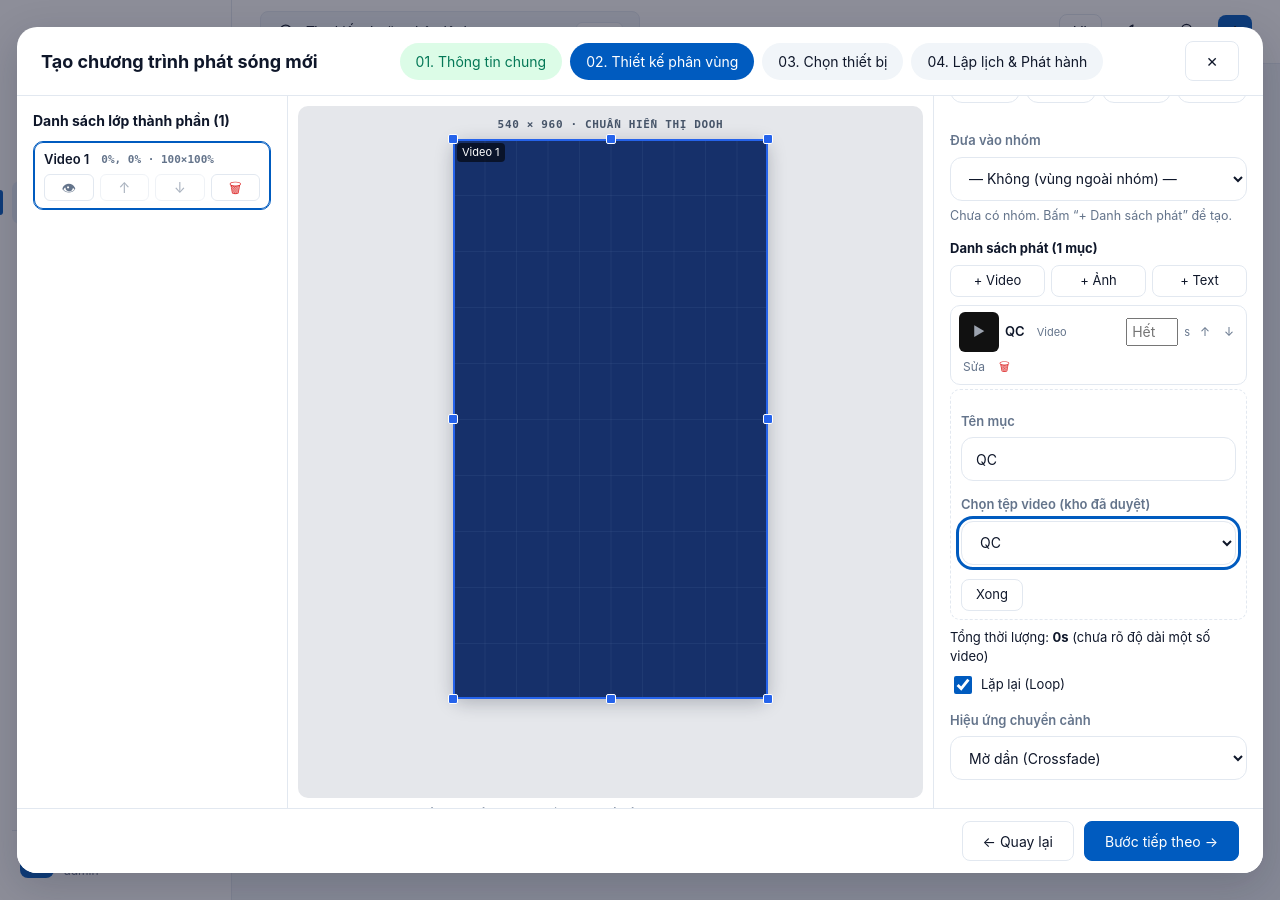
Test: BroadcastWizard › khong cho sang buoc sau khi thieu ten; phat hanh gui device_ids va hien tinh trang thiet bi
This screenshot has width=1280, height=900.
Earlier steps of the test are not shown.
(page scrolled)
Click the button "Bước tiếp theo →" at point(1162, 841), box [1084,821,1239,861]
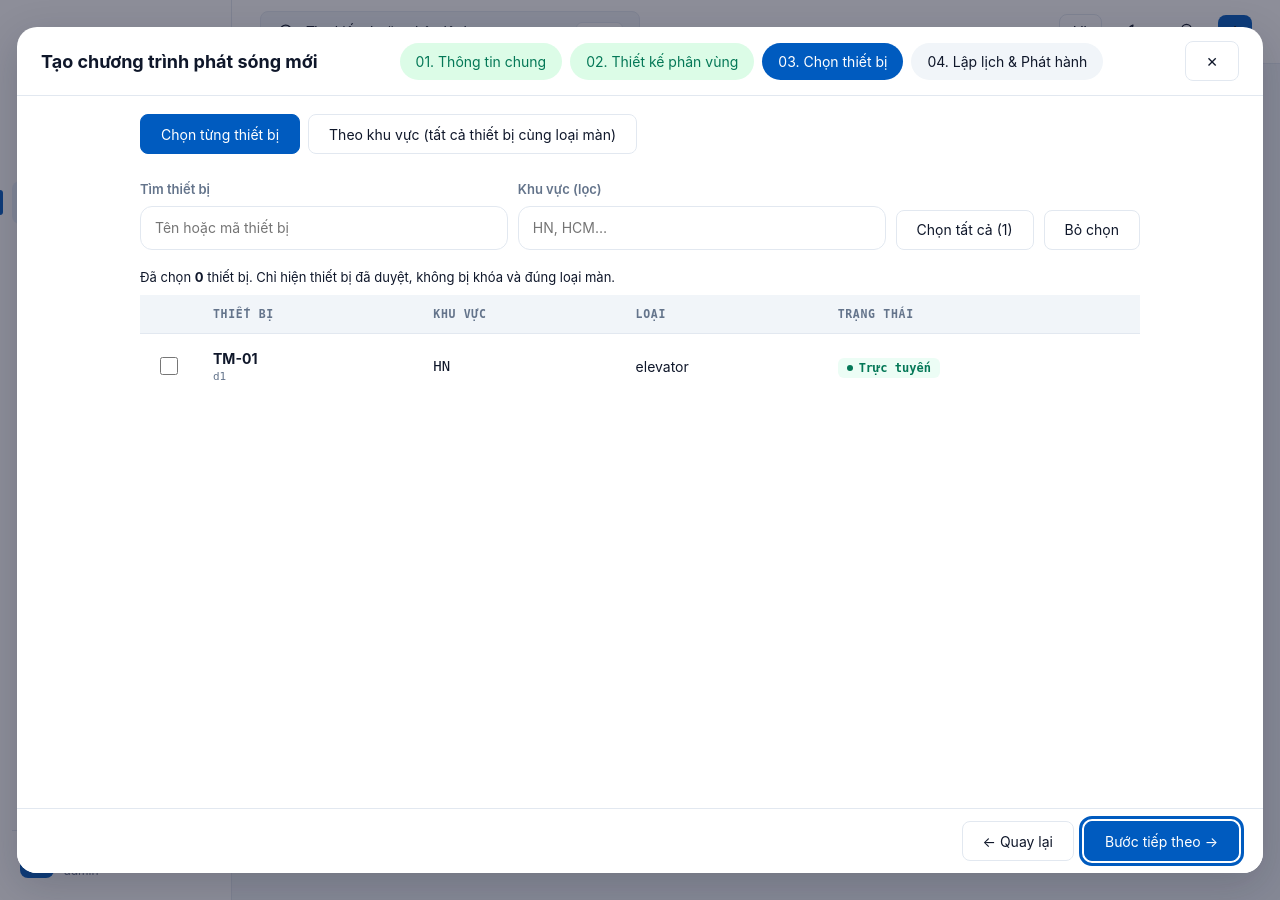
Click the checkbox named "Chọn TM-01" at point(169, 366), box [160,357,178,375]
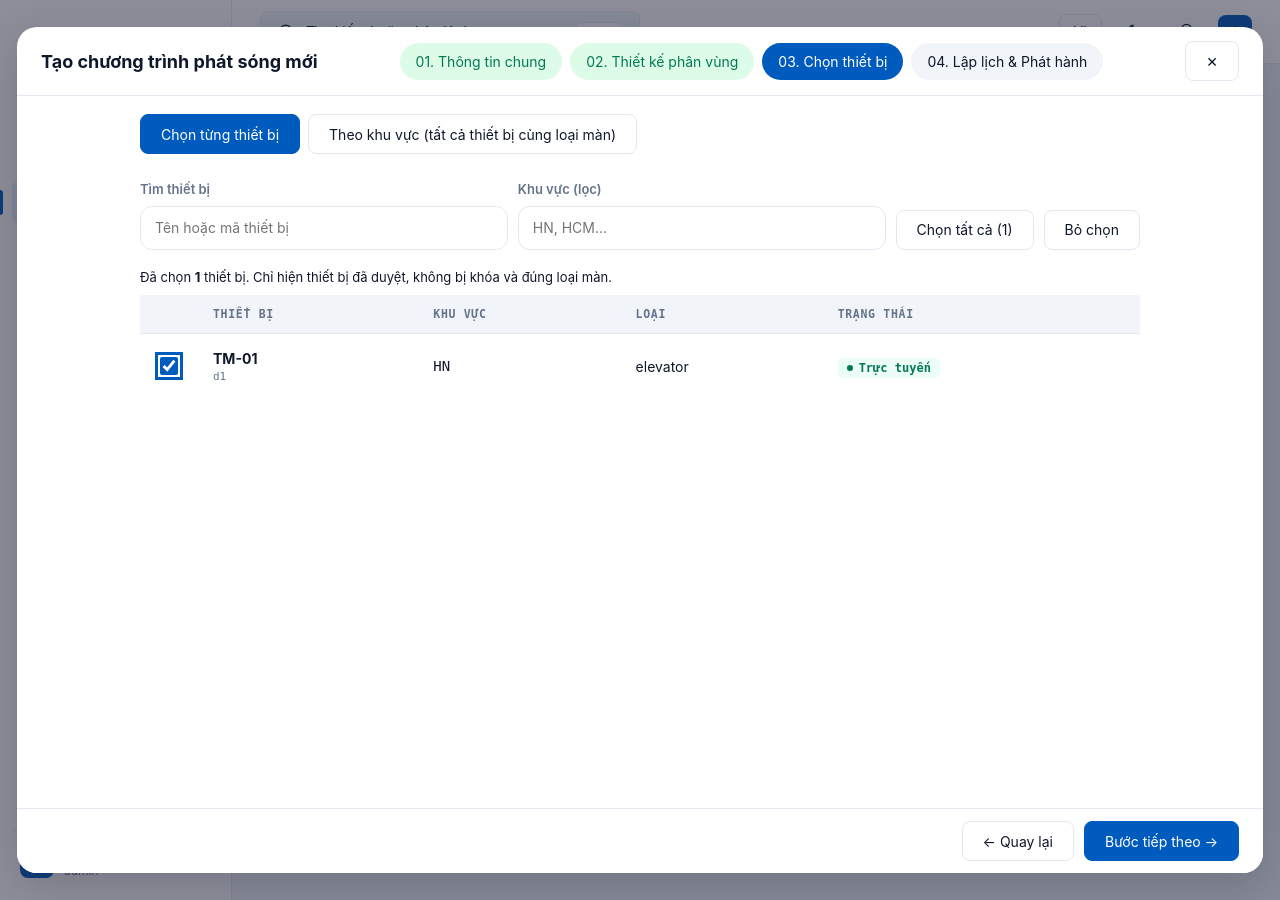
Click the button "Bước tiếp theo →" at point(1162, 841), box [1084,821,1239,861]
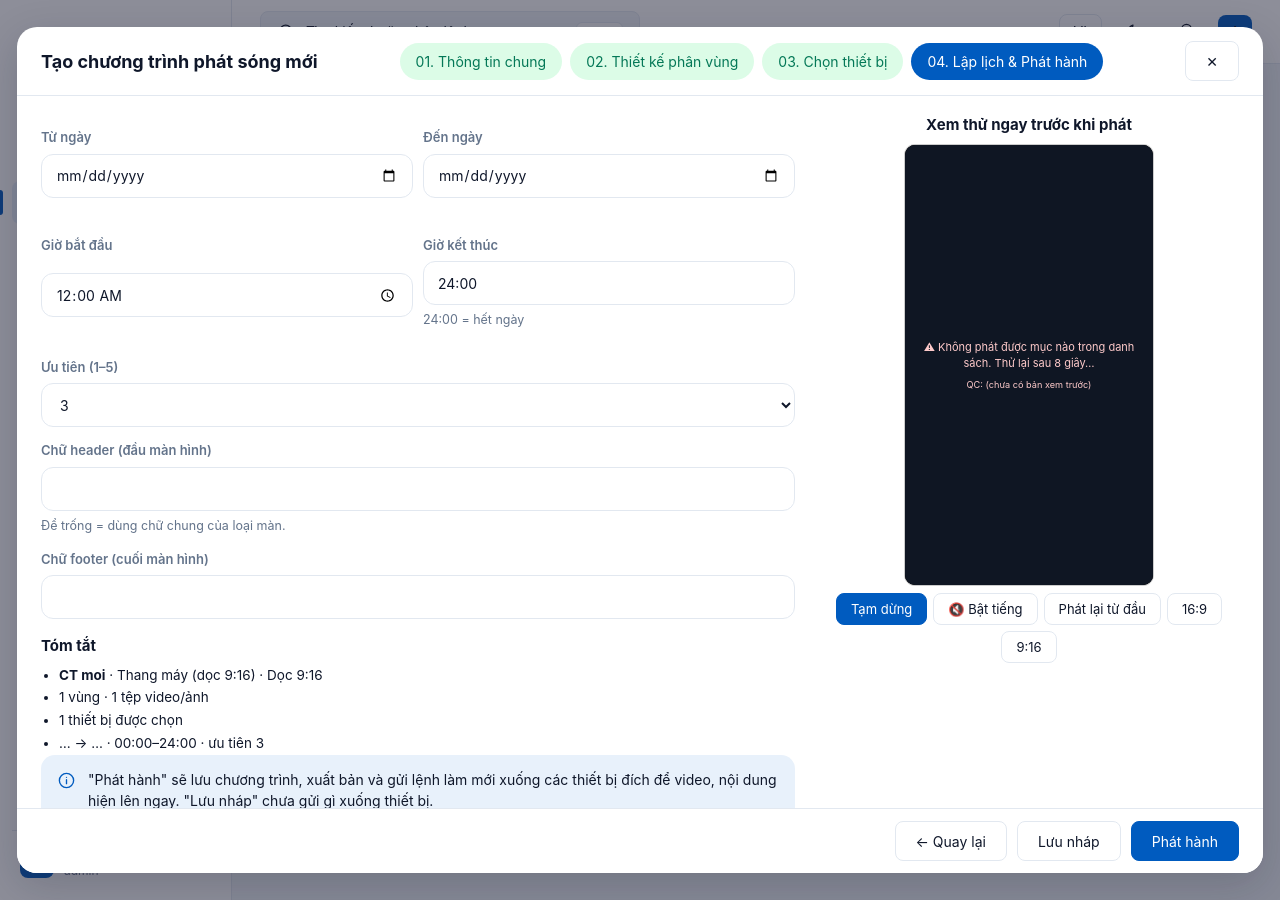
Click the button "Phát hành" at point(1185, 841), box [1131,821,1239,861]
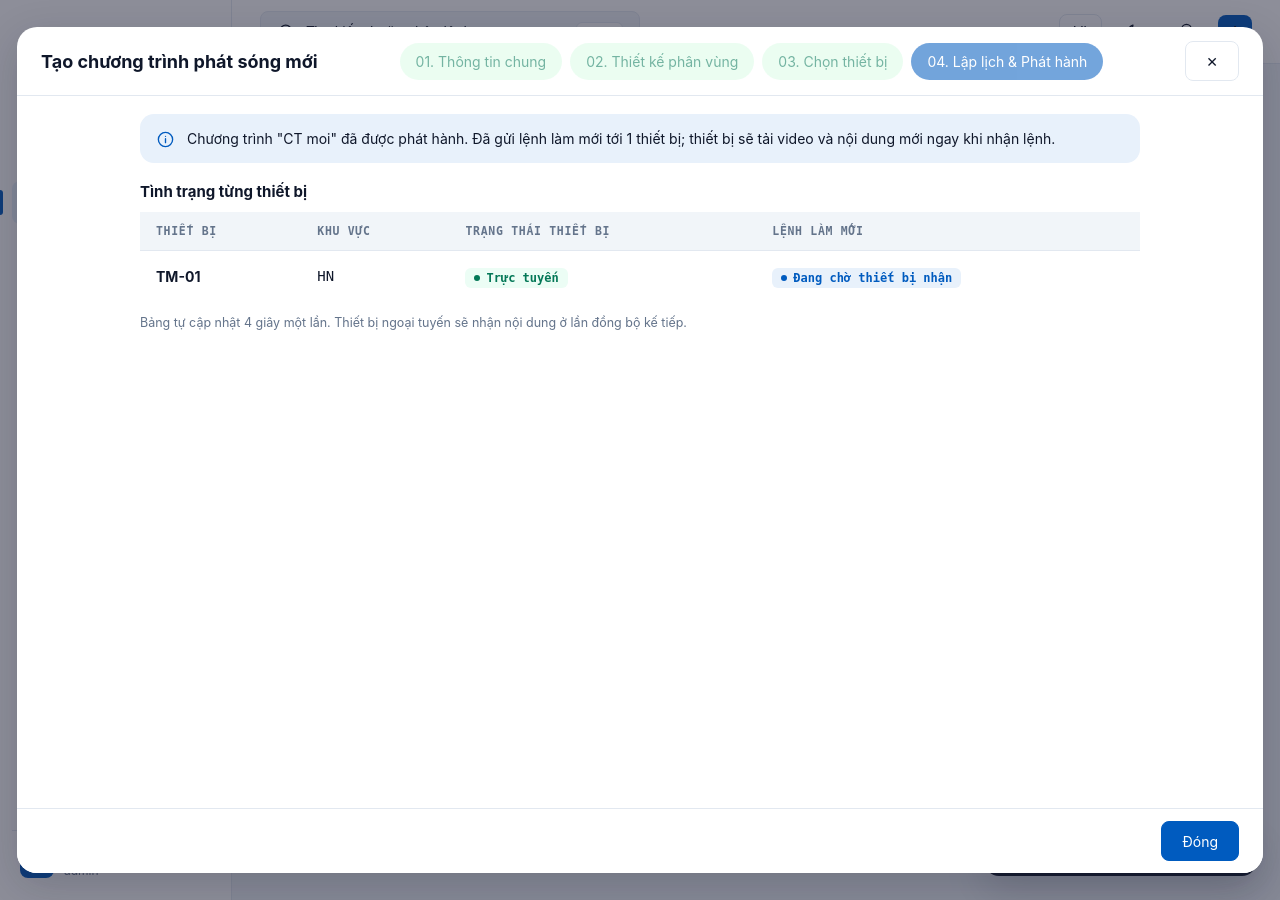
Result: the text "Đã gửi lệnh làm mới tới 1 thiết bị" is shown at [468,130,1055,147]
Result: the text "Đang chờ thiết bị nhận" is shown at [772,268,961,288]
